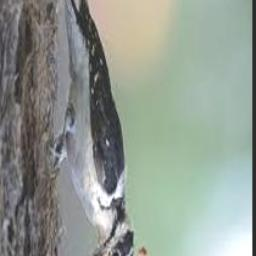Woodpecker: (50, 0, 148, 256)
